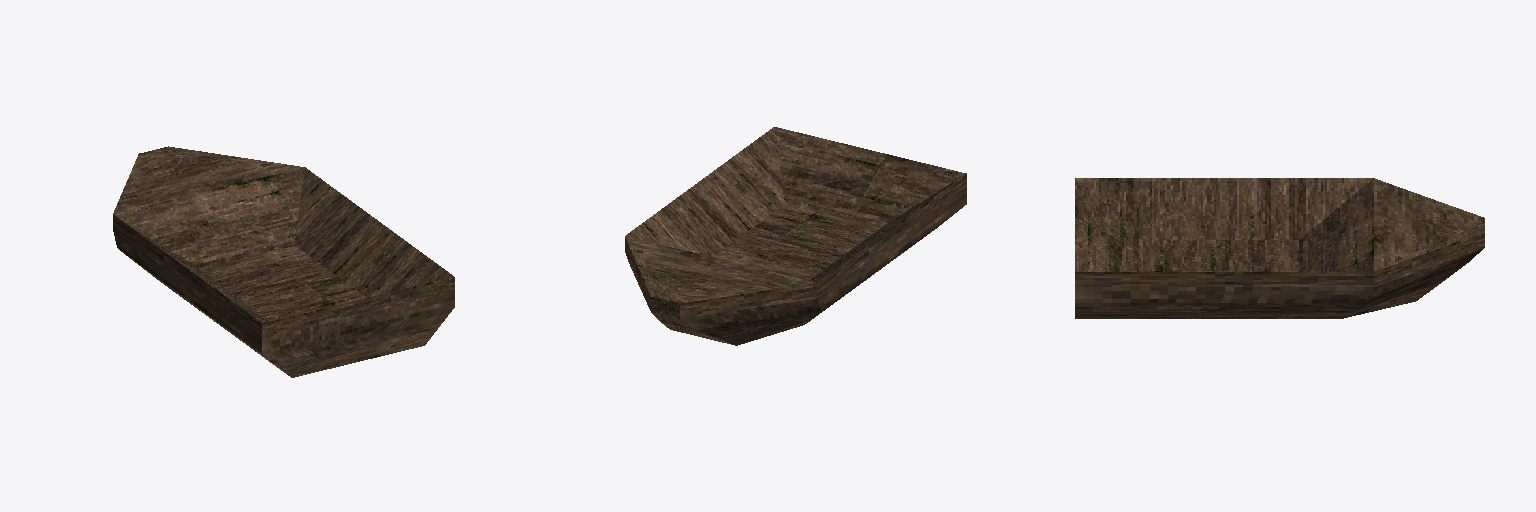
The picture shows the model from 3 angles: view 1: azimuth 30°, elevation 25°; view 2: azimuth 150°, elevation 25°; view 3: azimuth 270°, elevation 25°; orthographic projection.
Parts seen in each view (by area): view 1: cuboid; view 2: cuboid; view 3: cuboid.
Part boxes in pixels (x1,y1,x2,y2): cuboid: (113, 146, 454, 377); cuboid: (625, 127, 966, 345); cuboid: (1075, 178, 1484, 318).
Bounding box in the file's own units: 1.62 × 0.5 × 3.
1 materials, 1 textured.